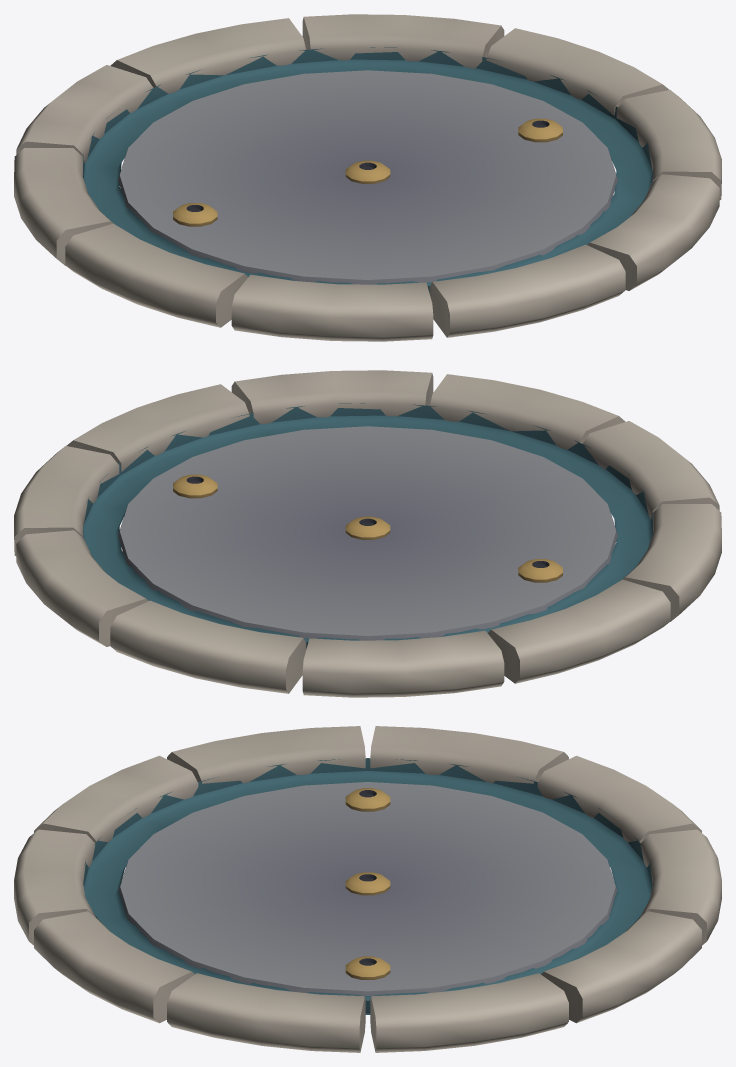
The model's file is Fountain.fbx.
3 views of the same model, one above another, from view 1: azimuth 30°, elevation 25°; view 2: azimuth 150°, elevation 25°; view 3: azimuth 270°, elevation 25° (orthographic).
Parts seen in each view (by area): view 1: Fountain; view 2: Fountain; view 3: Fountain.
Part boxes in pixels (x1,y1,x2,y2): Fountain: (14,14,721,341); Fountain: (14,370,721,697); Fountain: (14,726,721,1052).
Size of the model in its own units: 1.6 by 0.09 by 1.6.
